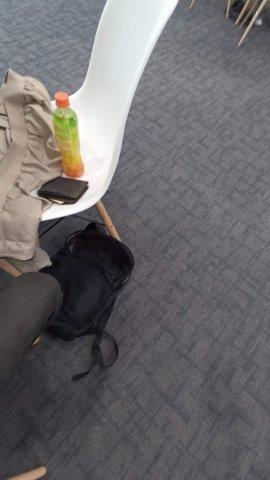botolplastik: (52, 92, 84, 178)
